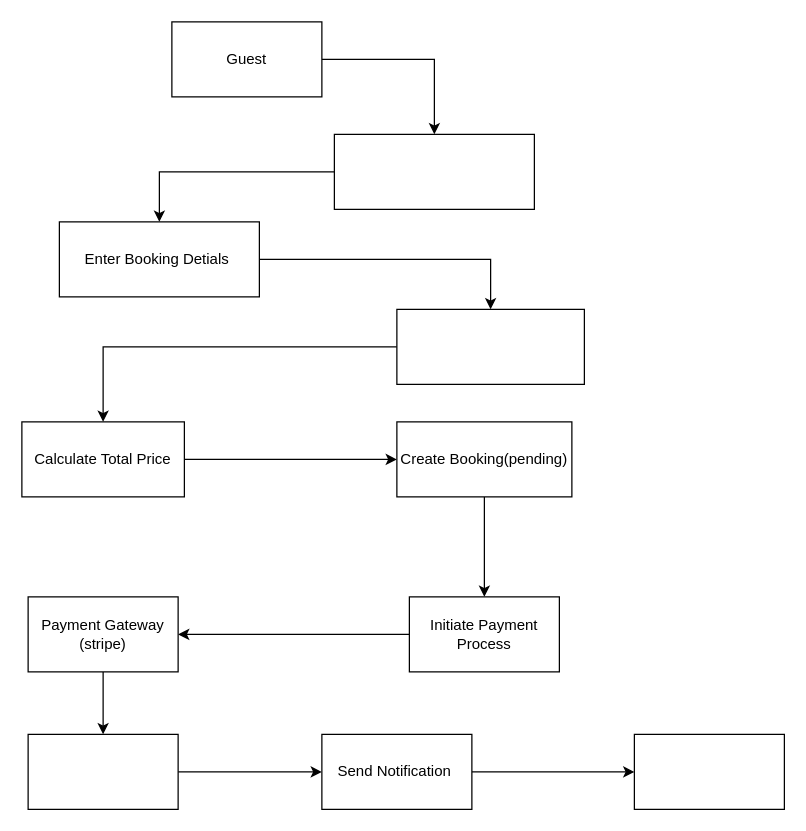
The diagram is 806 pixels wide and 831 high, and some of its shapes have lost their labels. Each missing label, with the box of its shape:
Authenticate (JWT or OAuth): (333, 133, 534, 209)
Confirm booking if Paid: (27, 733, 178, 809)
End: (633, 733, 784, 809)
Validate darte and conflicts: (396, 308, 584, 384)
